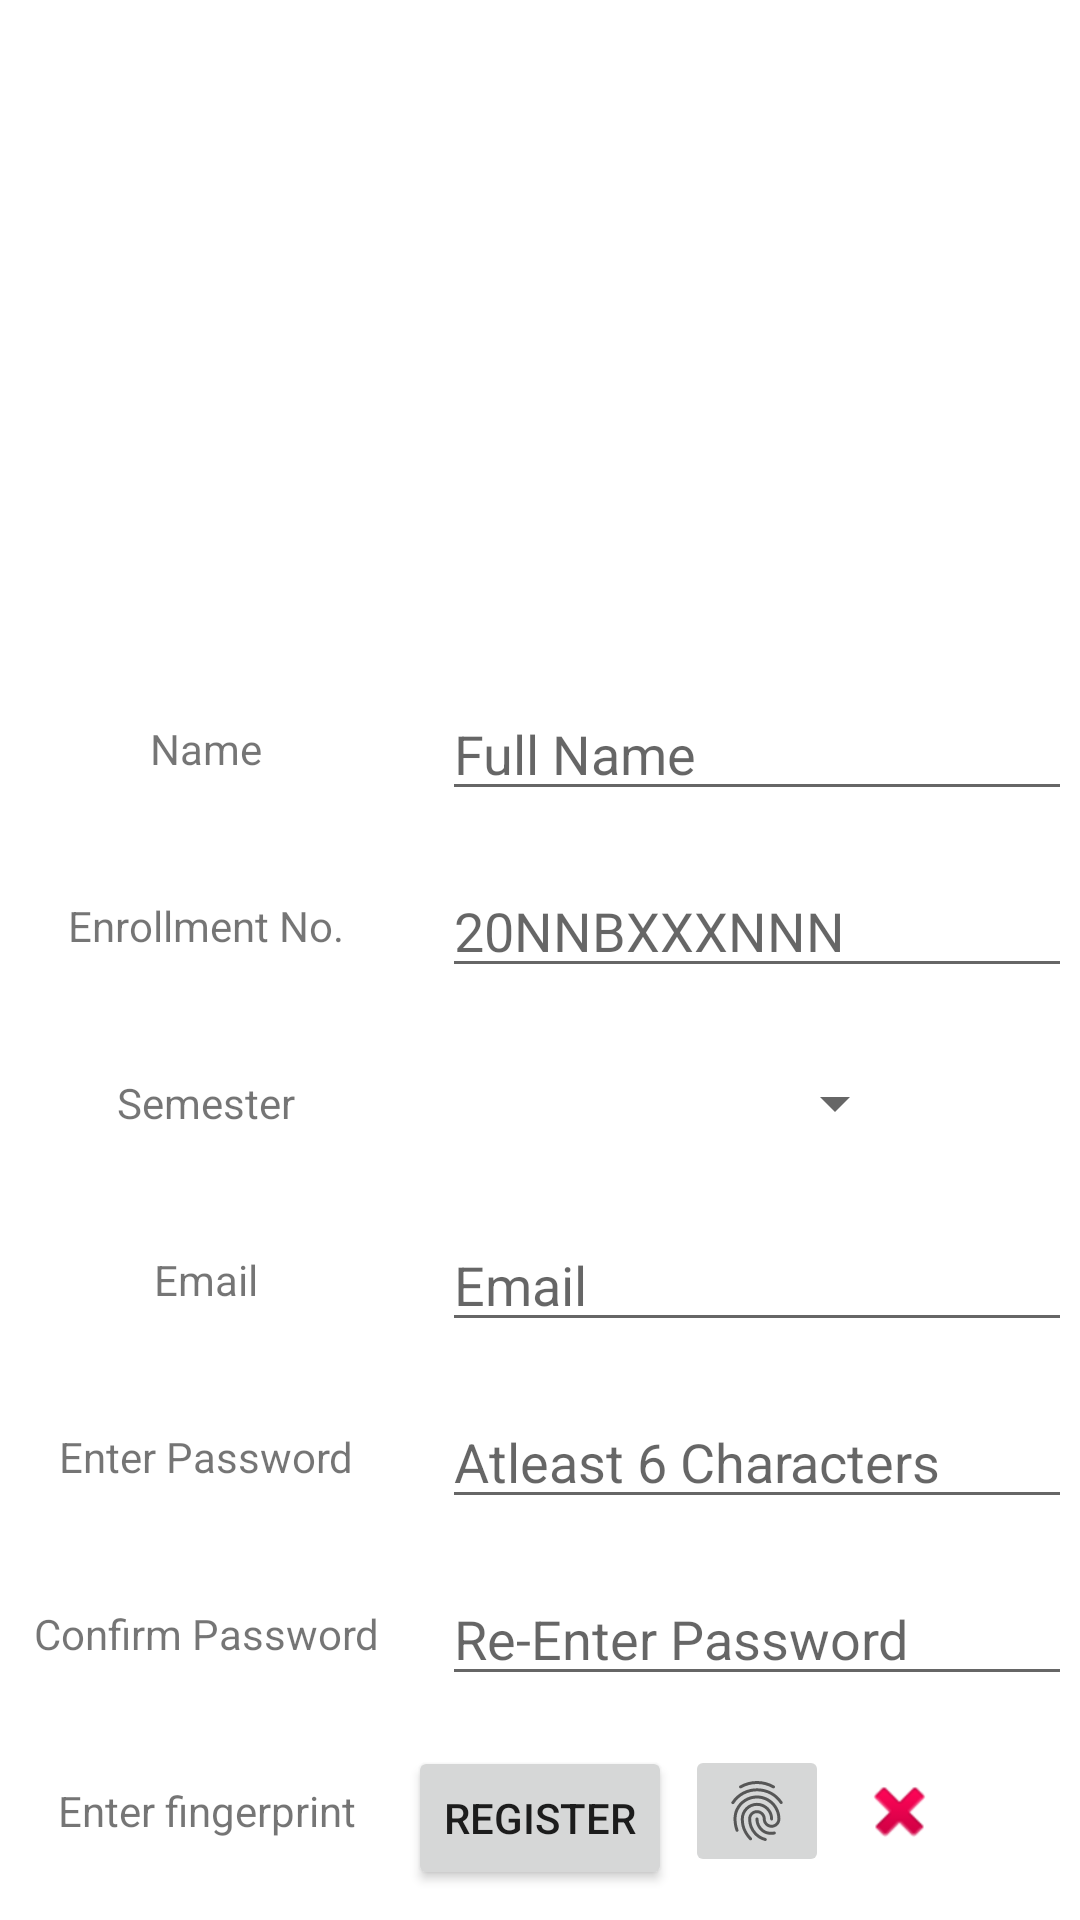

Icon click points for this 1080px×1920px phone screenshot, format point (x, y):
delete: point (899, 1812)
